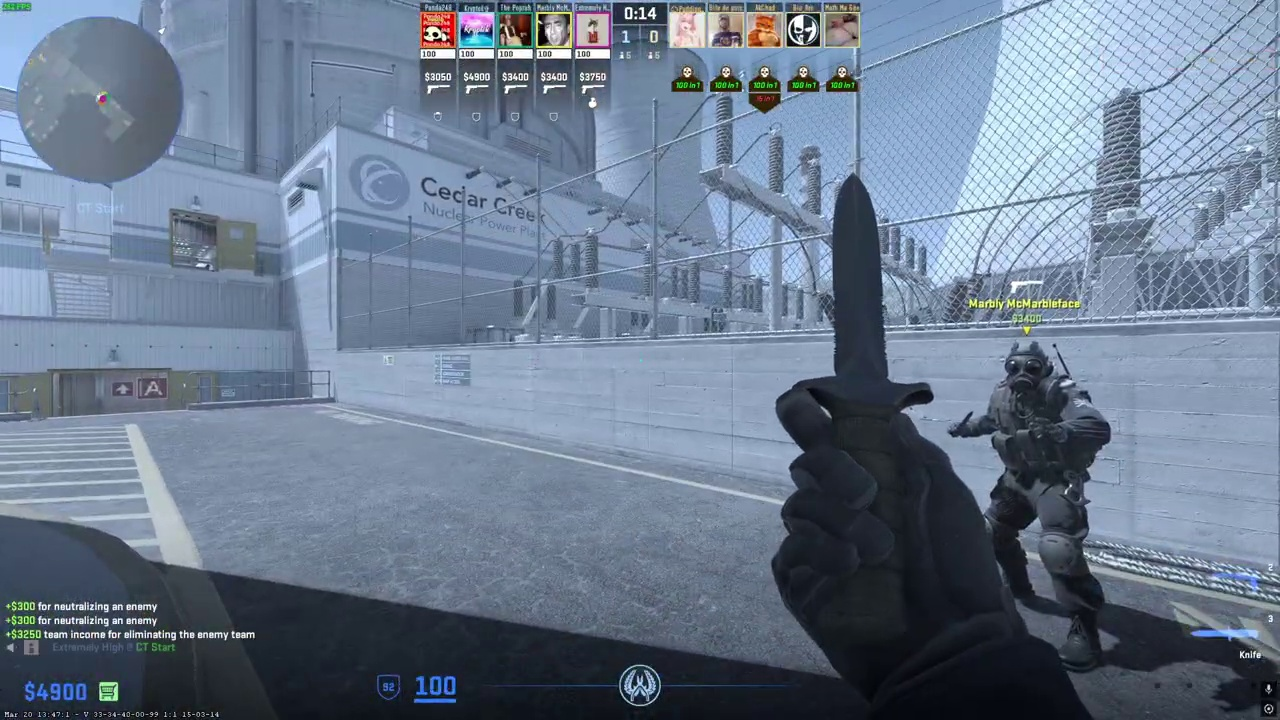CT: (977, 341, 1111, 665)
